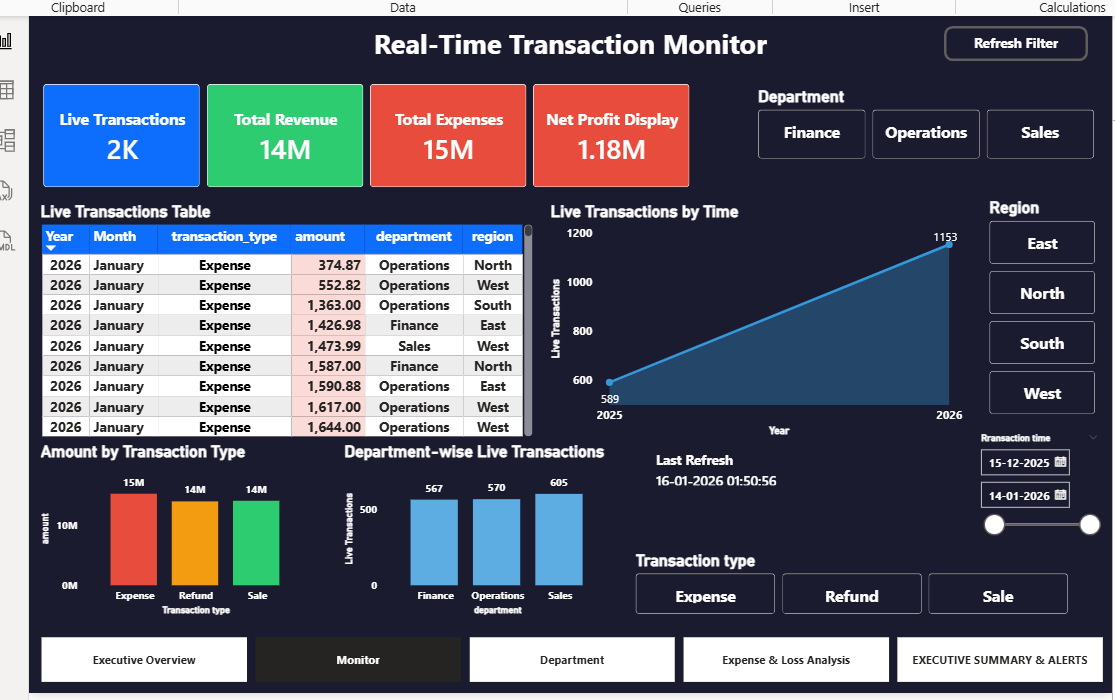

The dashboard page shown, as its layout file describes it:
{"tool":"powerbi","page":{"name":"Monitor","canvas":[1280,800],"ordinal":1},"visuals":[{"type":"shape","box":[0,0,1280.3,63.1],"z":0},{"type":"cardVisual","fields":{"Data":["financial_transactions.Live Transactions","financial_transactions.Total Revenue","financial_transactions.Total Expenses","financial_transactions.Net Profit Display"]},"box":[0,63.1,798.6,156.4],"z":1000},{"type":"tableEx","title":"Live Transactions Table","fields":{"Values":["financial_transactions.transaction_time.Variation.Date Hierarchy.Year","financial_transactions.transaction_time.Variation.Date Hierarchy.Month","financial_transactions.transaction_type","financial_transactions.amount","financial_transactions.department","financial_transactions.region"]},"box":[9.4,219.8,591.2,281.5],"z":2000},{"type":"advancedSlicerVisual","title":"Department","fields":{"Values":["financial_transactions.department"]},"box":[856.9,84.7,409.7,89.7],"z":3000},{"type":"pageNavigator","box":[14.8,746.4,1256.4,41.4],"z":4000},{"type":"actionButton","box":[1081.8,12.1,170.2,41.6],"z":5000},{"type":"cardVisual","fields":{"Data":["financial_transactions.Last Refresh"]},"box":[711.8,501.3,209.1,71],"z":6000},{"type":"lineChart","title":"Live Transactions by Time","fields":{"Category":["financial_transactions.transaction_time.Variation.Date Hierarchy.Year","financial_transactions.transaction_time.Variation.Date Hierarchy.Month"],"Y":["financial_transactions.Live Transactions"]},"box":[611.3,219.8,497.3,281.5],"z":7000},{"type":"clusteredColumnChart","title":"Amount by Transaction Type","fields":{"Category":["financial_transactions.transaction_type"],"Y":["Sum(financial_transactions.amount)"]},"box":[9.4,504,324.4,209.1],"z":8000},{"type":"clusteredColumnChart","title":"Department-wise Live Transactions","fields":{"Category":["financial_transactions.department"],"Y":["financial_transactions.Live Transactions"]},"box":[368.6,504,324.4,209.1],"z":9000},{"type":"advancedSlicerVisual","title":"Region","fields":{"Values":["financial_transactions.region"]},"box":[1131.4,215.8,135.4,260.1],"z":10000},{"type":"advancedSlicerVisual","title":"Transaction type","fields":{"Values":["financial_transactions.transaction_type"]},"box":[712.4,632.6,523.2,79.8],"z":11000},{"type":"slicer","title":"Region","fields":{"Values":["financial_transactions.transaction_time"]},"box":[1113,487.8,162.6,136],"z":12000}]}

Visuals, with their boxes on the page's 1280x800 design canvas (x1, y1, x2, y2). These are canvas units, not pixel positions in the 1115x700 screenshot, which may show the page scaled, cropped or inside an application window:
shape: <box>0,0,1280,63</box>
cardVisual - financial_transactions.Live Transactions x financial_transactions.Total Revenue: <box>0,63,799,220</box>
"Live Transactions Table" tableEx: <box>9,220,601,501</box>
"Department" advancedSlicerVisual: <box>857,85,1267,174</box>
pageNavigator: <box>15,746,1271,788</box>
actionButton: <box>1082,12,1252,54</box>
cardVisual - financial_transactions.Last Refresh: <box>712,501,921,572</box>
"Live Transactions by Time" lineChart: <box>611,220,1109,501</box>
"Amount by Transaction Type" clusteredColumnChart: <box>9,504,334,713</box>
"Department-wise Live Transactions" clusteredColumnChart: <box>369,504,693,713</box>
"Region" advancedSlicerVisual: <box>1131,216,1267,476</box>
"Transaction type" advancedSlicerVisual: <box>712,633,1236,712</box>
"Region" slicer: <box>1113,488,1276,624</box>
